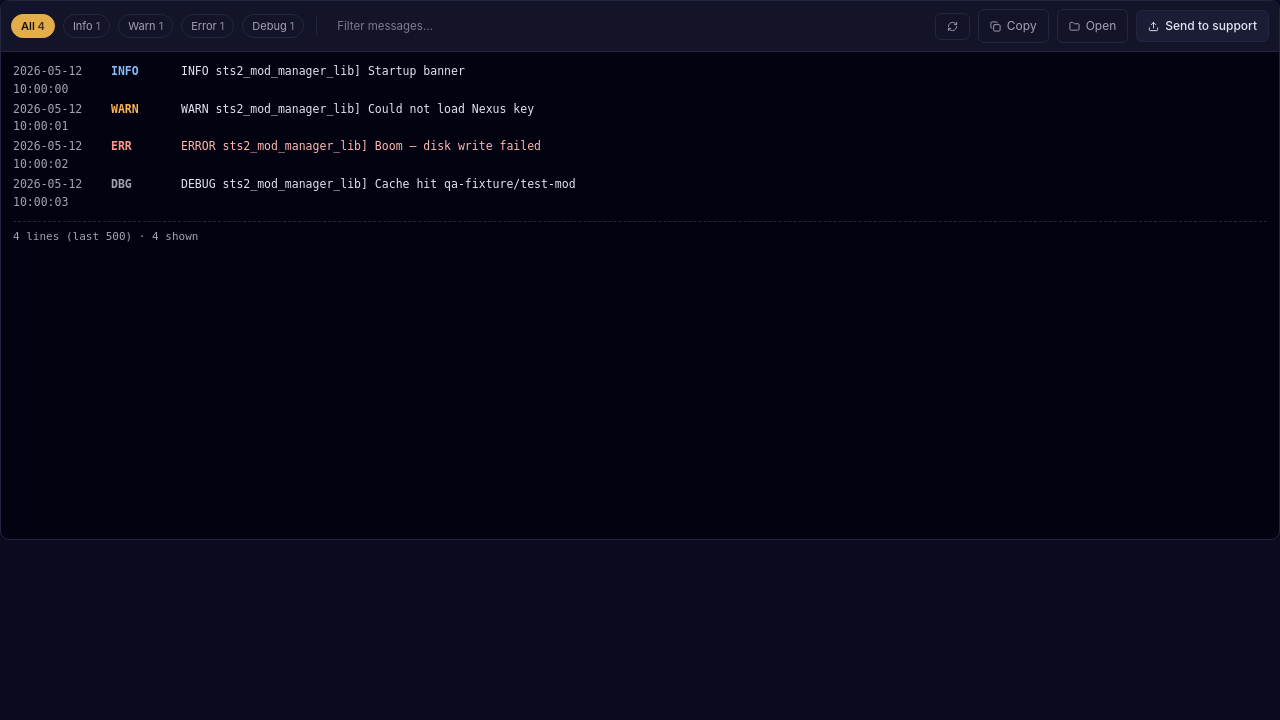
it: <LogsViewer> › Error filter chip narrows visible lines to ERROR only
This screenshot has width=1280, height=720.
Check: the text "INFO sts2_mod_manager_lib] Startup banner" is shown, box [181,64,465,78]
Click the button "Error 1": (208, 26) [181,14,234,38]
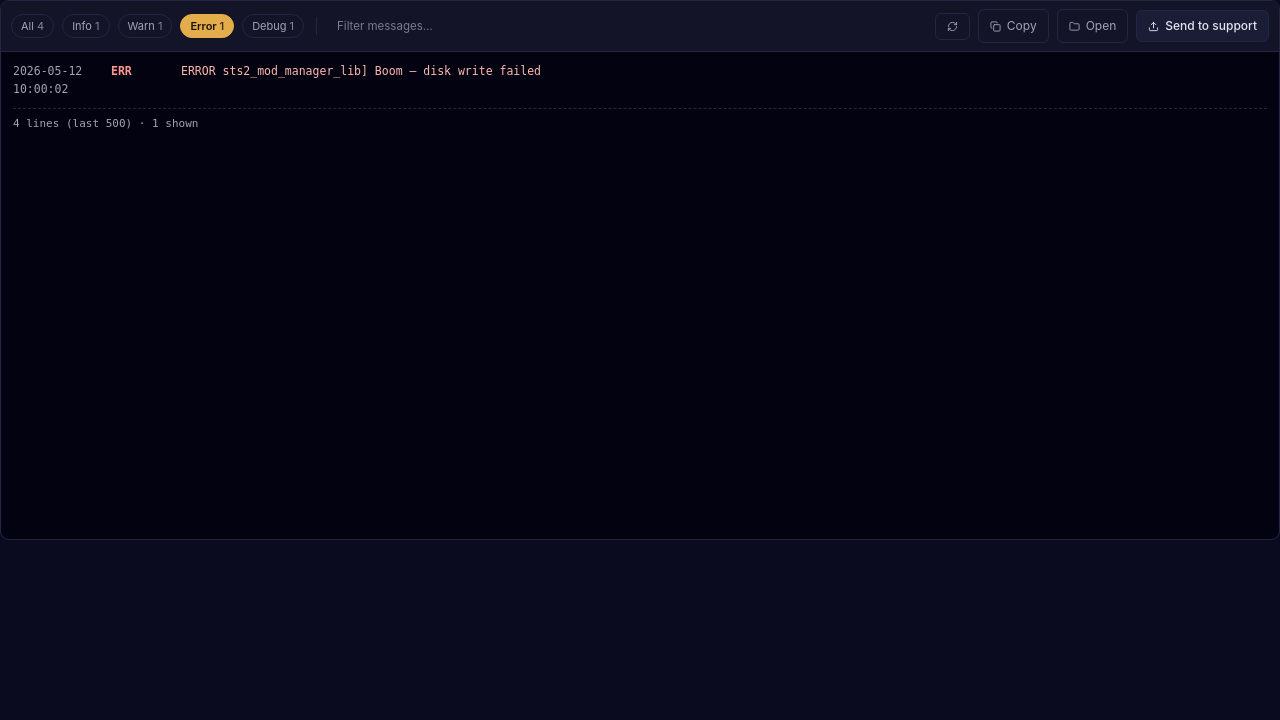
Check: the text "Startup banner" is gone
Check: the text "Could not load Nexus key" is gone
Check: the text "Cache hit qa-fixture" is gone
